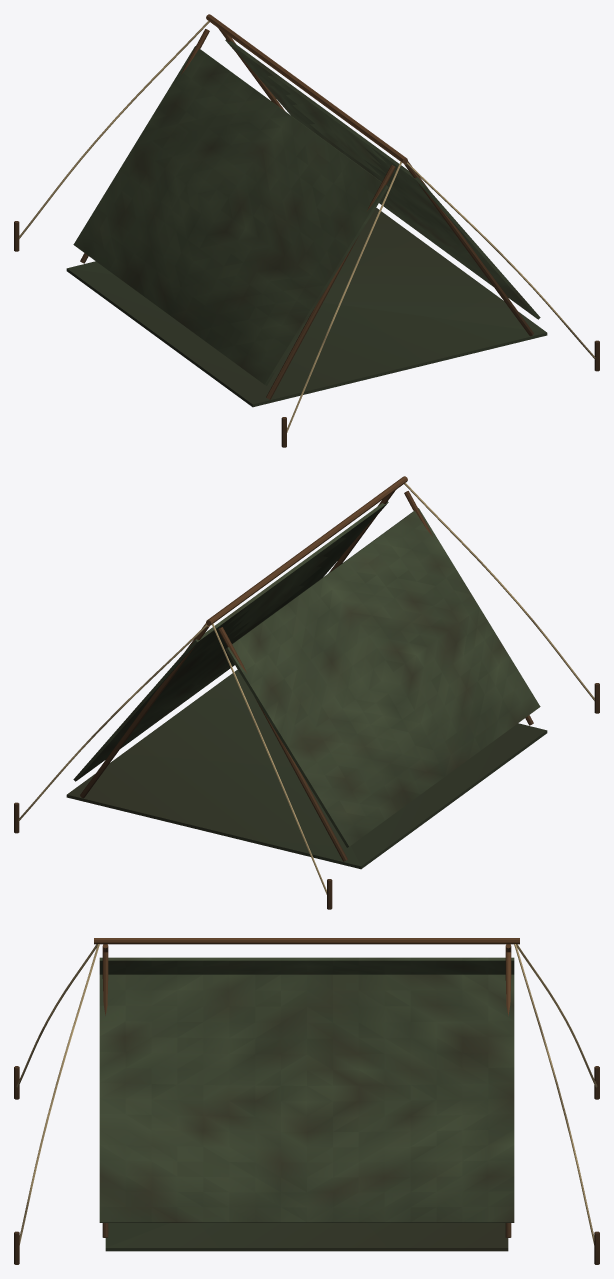
Rendered from Tent.glb.
3 views of the same model, one above another, from view 1: azimuth 30°, elevation 25°; view 2: azimuth 150°, elevation 25°; view 3: azimuth 270°, elevation 25° (orthographic). The views are drawn at different scales.
Visible parts, largest first — view 1: Tent_canvas, Tent_wood, Tent_rope; view 2: Tent_canvas, Tent_wood, Tent_rope; view 3: Tent_canvas, Tent_wood, Tent_rope.
Part boxes in pixels (<box>): Tent_canvas: <box>66,39,547,407</box>; Tent_wood: <box>14,14,599,447</box>; Tent_rope: <box>19,20,595,432</box>; Tent_canvas: <box>66,501,547,869</box>; Tent_wood: <box>14,476,599,909</box>; Tent_rope: <box>18,482,594,894</box>; Tent_canvas: <box>99,957,514,1251</box>; Tent_wood: <box>14,938,599,1264</box>; Tent_rope: <box>16,944,597,1244</box>.
Bounding box in the file's own units: 6.89 × 4.66 × 10.18.
